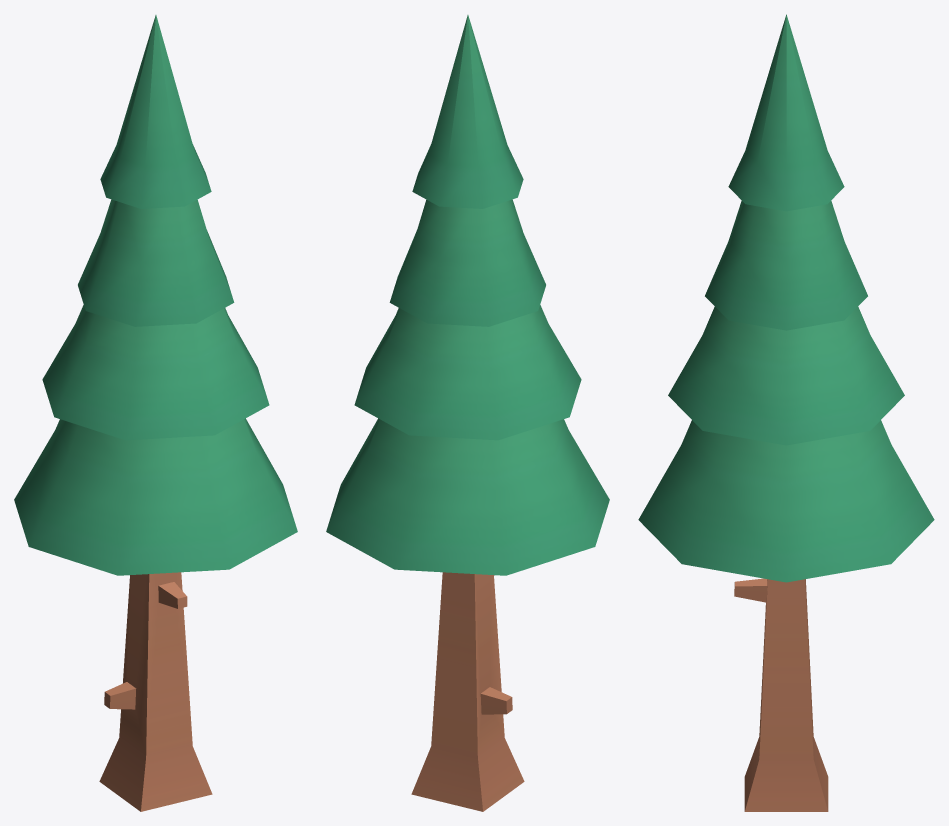
Rendered from ot-tree-high.glb.
The picture shows the model from 3 angles, left to right: view 1: azimuth 30°, elevation 25°; view 2: azimuth 150°, elevation 25°; view 3: azimuth 270°, elevation 25°; orthographic projection.
Parts seen in each view (by area): view 1: tree-high; view 2: tree-high; view 3: tree-high.
Boxes of the visible parts, x1,y1,x2,y2 form: tree-high: [14, 15, 297, 811]; tree-high: [326, 15, 609, 811]; tree-high: [638, 14, 934, 811].
Bounding box in the file's own units: 1.02 × 2.97 × 1.02.
1 material, 1 textured.
